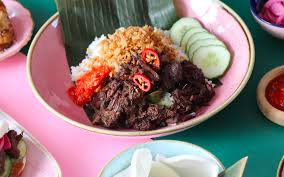rendang: (62, 25, 217, 131)
